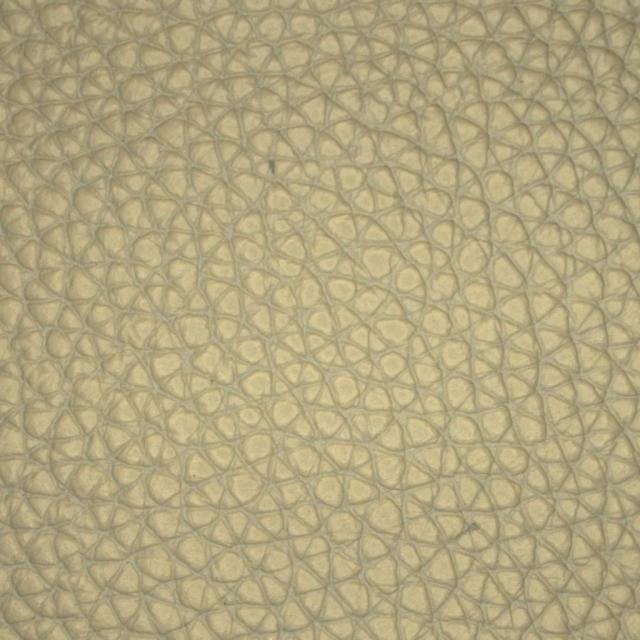pinhole: (400, 452, 552, 600), (192, 98, 344, 242)
